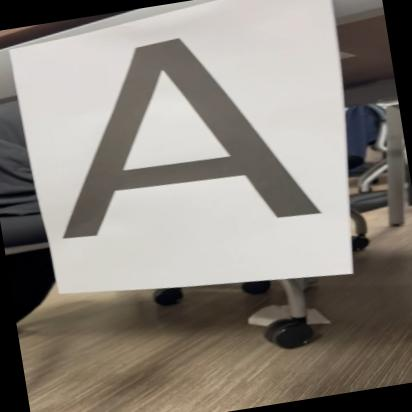seat: (32, 14, 332, 260)
